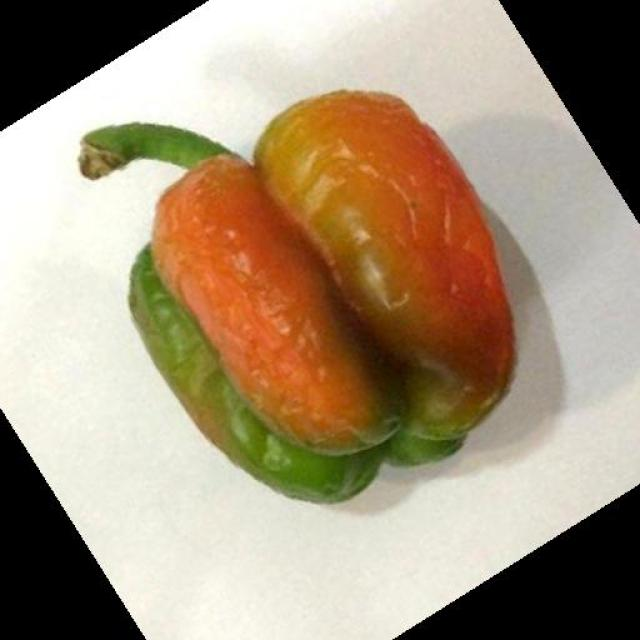Stale_Capsicum: (99, 112, 485, 480)
